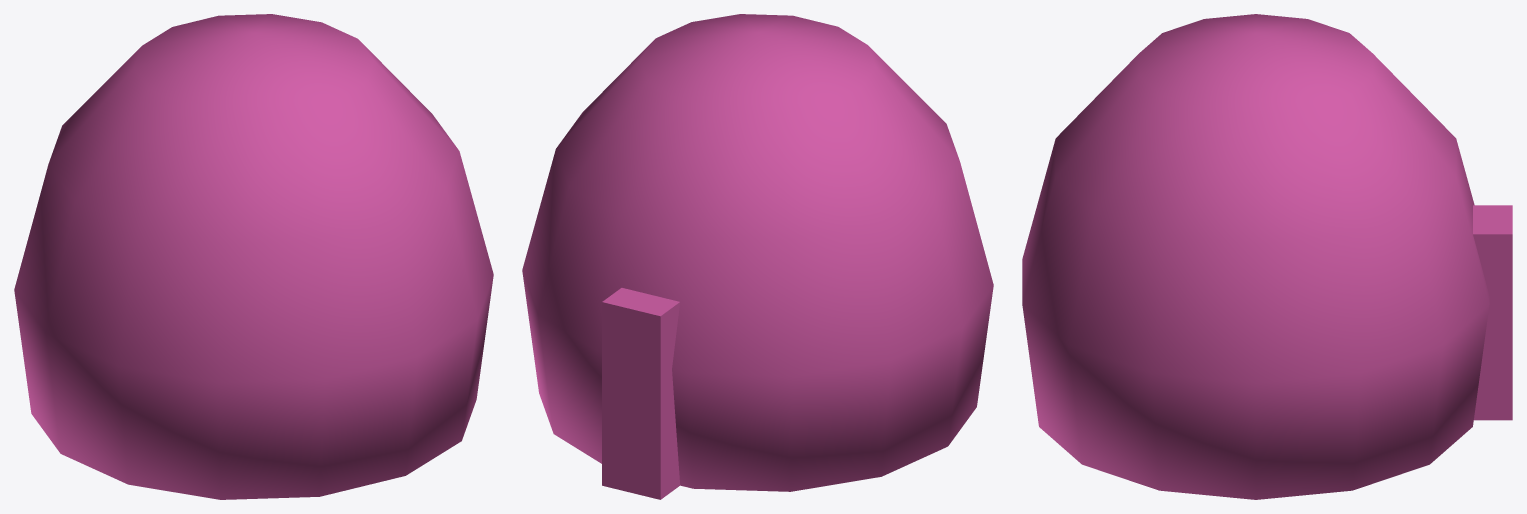
Rendered from orchidite_helmet.glb.
3 views of the same model, side by side, from view 1: azimuth 30°, elevation 25°; view 2: azimuth 150°, elevation 25°; view 3: azimuth 270°, elevation 25° (orthographic).
Visible parts, largest first — view 1: orchidite_helmet_v0; view 2: orchidite_helmet_v0; view 3: orchidite_helmet_v0.
Part boxes in pixels (x1=…): orchidite_helmet_v0: x1=14, y1=14, x2=493, y2=499; orchidite_helmet_v0: x1=522, y1=14, x2=993, y2=499; orchidite_helmet_v0: x1=1022, y1=14, x2=1512, y2=499.
Size of the model in its own units: 0.28 by 0.24 by 0.2865.
